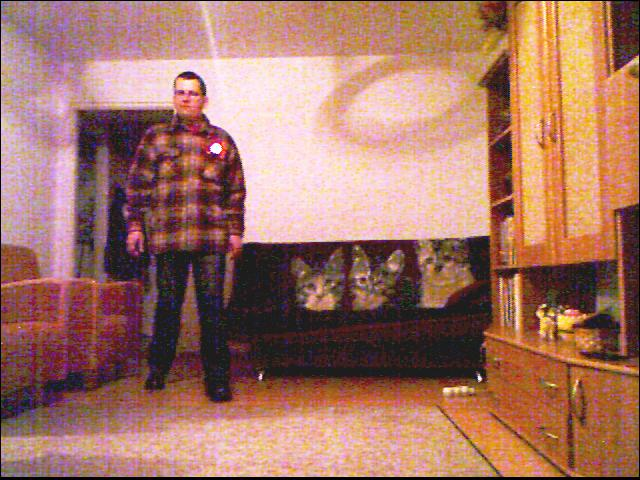walking: (112, 64, 257, 388)
